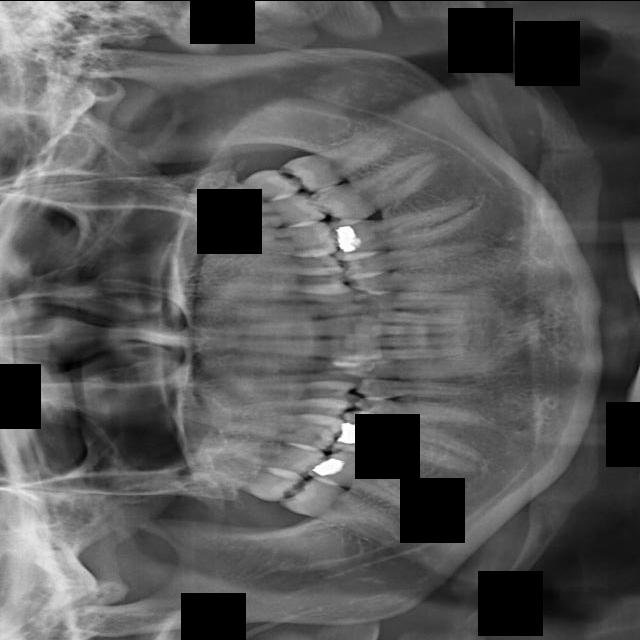3M ESPE Implant: (178, 446, 303, 508)
AGS Medikal Implant: (310, 143, 455, 233)
AMerOss Implant: (471, 207, 472, 207)
Amalgam filling: (197, 426, 324, 480)
Anthogyr Implant: (340, 228, 505, 279)
Bicon Implant: (349, 269, 486, 292)
BioHorizons Implant: (356, 288, 496, 310)
BioLife Implant: (365, 309, 459, 324)
Biomet 3i Implant: (367, 323, 461, 335)
Blue Sky Bio Implant: (367, 334, 461, 347)
Camlog Implant: (364, 342, 472, 361)
Caries: (214, 302, 363, 318)
Composite filling: (361, 356, 506, 380)
Cowellmedi Implant: (355, 377, 485, 405)
Crown: (353, 395, 510, 433)
DENTSPLY Implant: (180, 399, 344, 452)
Dentatus Implant: (477, 464, 478, 464)
Dentis Implant: (399, 483, 429, 506)
Dentium Implant: (278, 467, 411, 554)
Euroteknika Implant: (205, 386, 352, 423)
Filling: (223, 382, 357, 404)
Frontier Implant: (208, 369, 361, 386)
Hiossen Implant: (213, 284, 357, 303)
Implant: (216, 338, 365, 358)
Implant Direct: (202, 355, 363, 371)
Keystone Dental Implant: (203, 313, 365, 336)
MIS Implant: (213, 269, 350, 288)
Mandible: (204, 253, 343, 270)
Maxilla: (209, 219, 337, 254)
Megagen Implant: (186, 189, 325, 243)
Neodent Implant: (175, 164, 301, 211)
Neoss Implant: (383, 126, 396, 134)
